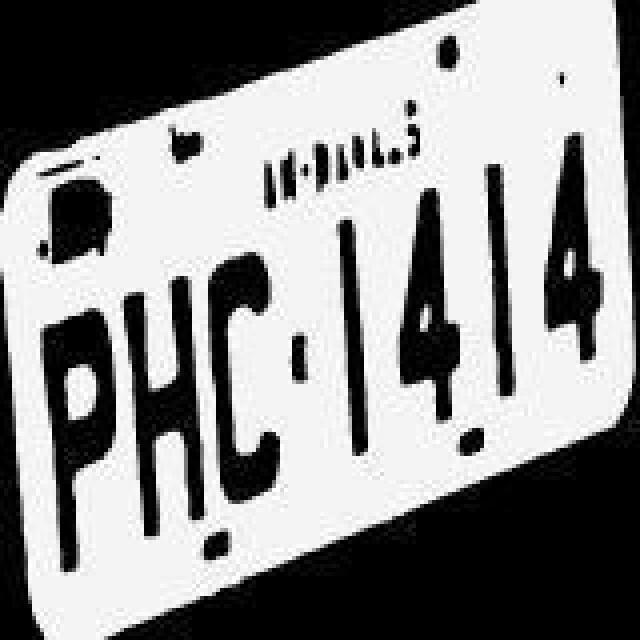1: (330, 206, 374, 490), (482, 154, 526, 422)
4: (528, 118, 608, 426), (388, 180, 460, 436)
C: (208, 248, 288, 512)
H: (124, 254, 204, 530)
P: (40, 298, 120, 590)
